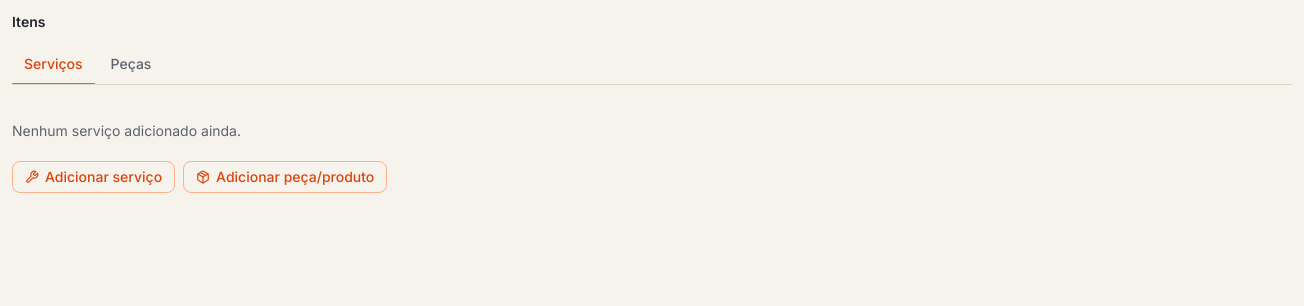
Test: ItemsEditor — serviço cobrado pela hora técnica por categoria › prices by the VEHICLE category, not the catalog category of the chosen service
The width and height of the screenshot is (1304, 306).
Click the button "Adicionar serviço" at (94, 177), box [12,161,175,193]
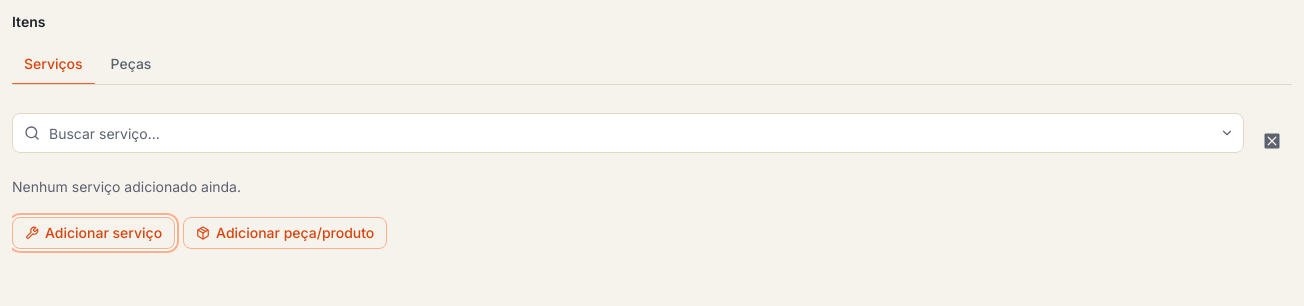
Click the field at (628, 133), box [12,113,1244,153]
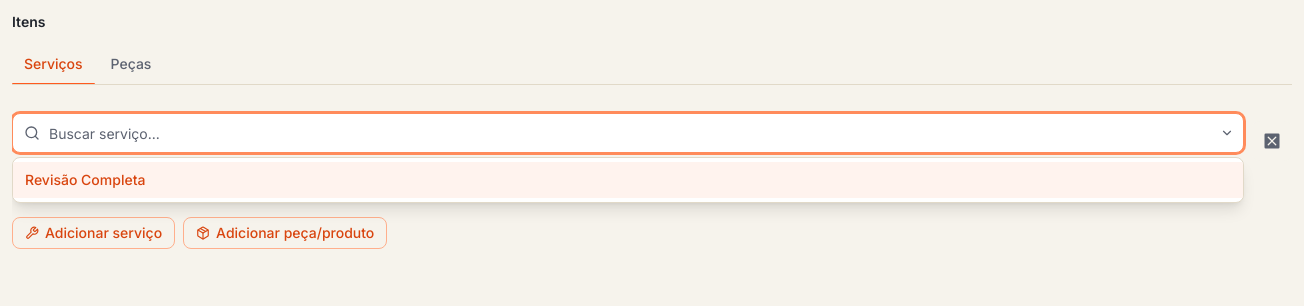
Click the button "Revisão Completa" at (85, 180), box [13,162,1243,198]
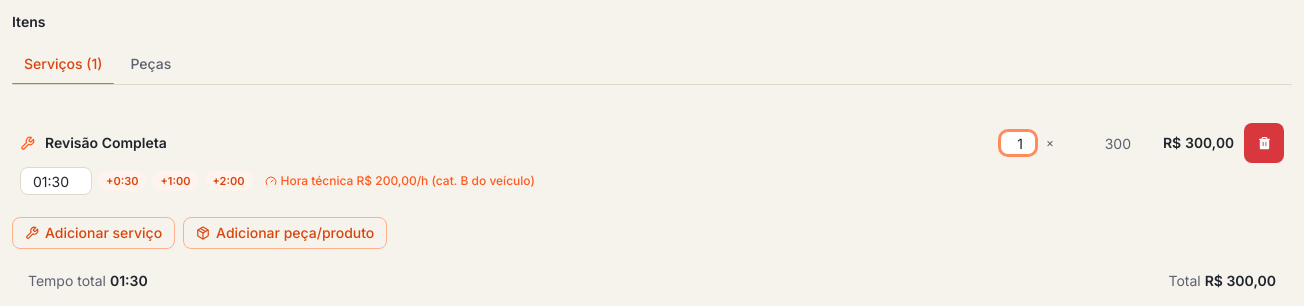
Check: the number field named "Valor unitário" holds "300", box [1064,131,1144,155]
Check: the text "Hora técnica R$ 200,00/h (cat. B do veículo)" is shown, box [264,173,535,189]
